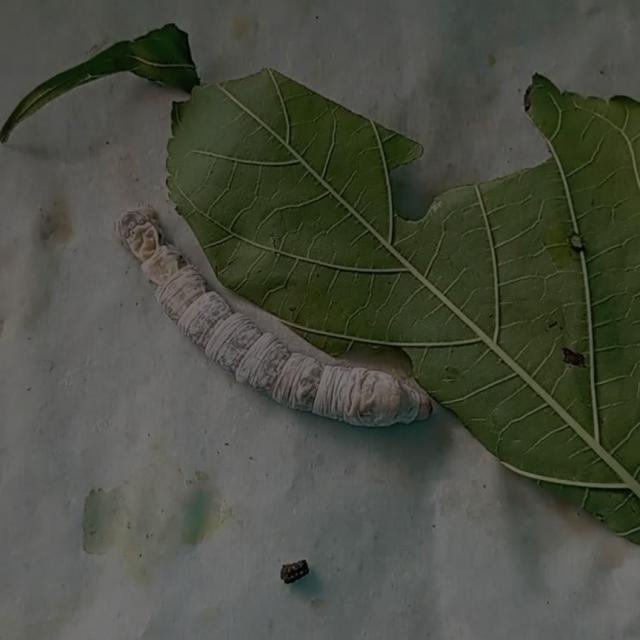Grasserie: (92, 175, 444, 451)
